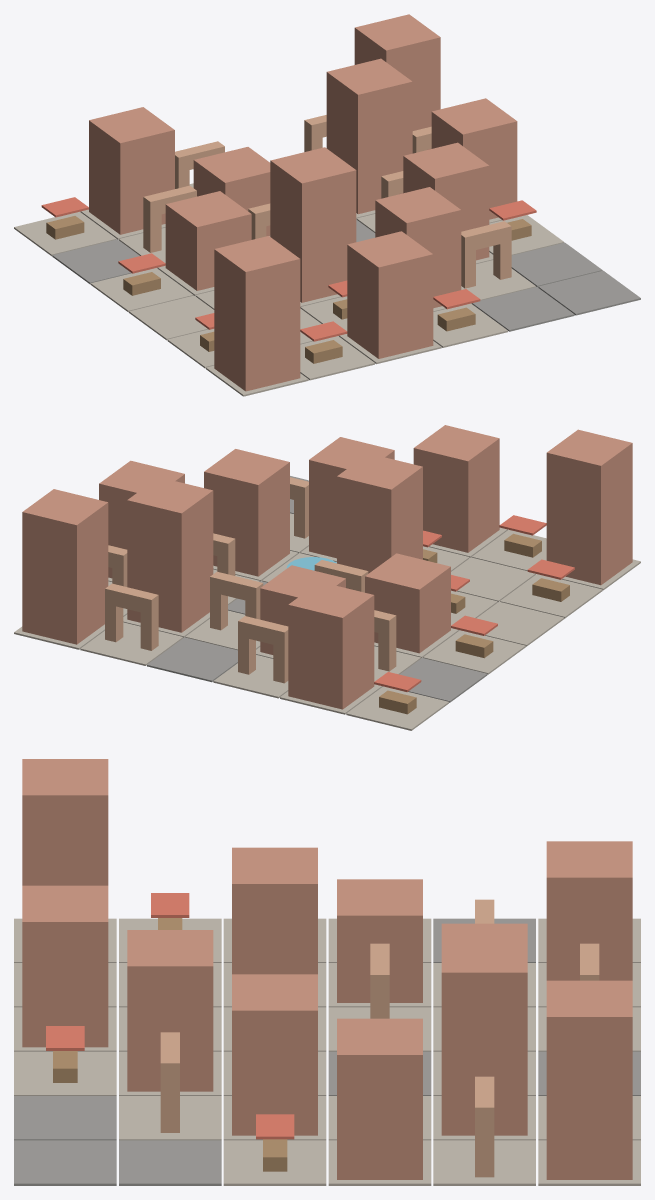
The model's file is wfc_courtyard.glb.
The picture shows the model from 3 angles, top to bottom: view 1: azimuth 30°, elevation 25°; view 2: azimuth 150°, elevation 25°; view 3: azimuth 270°, elevation 25°; orthographic projection. The views are drawn at different scales.
Parts seen in each view (by area): view 1: bldg_5_0, bldg_3_2, bldg_5_2, bldg_1_4, bldg_0_1, bldg_2_1, bldg_0_5, bldg_2_5, bldg_4_3, bldg_3_4, bldg_1_2, tile_5_5_ROAD (+29 smaller); view 2: bldg_0_5, bldg_5_0, bldg_1_4, bldg_0_1, bldg_5_2, bldg_3_2, bldg_3_4, bldg_2_1, bldg_4_3, bldg_2_5, bldg_1_2, tile_0_3_ROAD (+32 smaller); view 3: bldg_0_5, bldg_1_4, bldg_2_5, bldg_5_2, bldg_3_4, bldg_4_3, bldg_0_1, bldg_5_0, bldg_3_2, bldg_2_1, tile_4_5_ROAD, tile_5_5_ROAD (+44 smaller).
Boxes of the visible parts, bbox=[...] form: bldg_5_0: bbox=[214, 236, 300, 391]; bldg_3_2: bbox=[270, 147, 356, 302]; bldg_5_2: bbox=[347, 231, 433, 358]; bldg_1_4: bbox=[326, 58, 412, 214]; bldg_0_1: bbox=[89, 107, 174, 234]; bldg_2_1: bbox=[165, 191, 251, 290]; bldg_0_5: bbox=[354, 14, 440, 149]; bldg_2_5: bbox=[431, 98, 517, 219]; bldg_4_3: bbox=[375, 187, 461, 308]; bldg_3_4: bbox=[403, 142, 489, 260]; bldg_1_2: bbox=[193, 147, 270, 236]; tile_5_5_ROAD: bbox=[538, 270, 640, 315]; bldg_0_5: bbox=[22, 489, 108, 644]; bldg_5_0: bbox=[546, 429, 632, 585]; bldg_1_4: bbox=[127, 477, 213, 632]; bldg_0_1: bbox=[288, 582, 374, 709]; bldg_5_2: bbox=[413, 425, 499, 552]; bldg_3_2: bbox=[337, 453, 422, 588]; bldg_3_4: bbox=[204, 449, 289, 576]; bldg_2_1: bbox=[365, 553, 450, 653]; bldg_4_3: bbox=[309, 437, 394, 558]; bldg_2_5: bbox=[99, 460, 184, 578]; bldg_1_2: bbox=[260, 565, 345, 654]; tile_0_3_ROAD: bbox=[147, 637, 237, 682]; bldg_0_5: bbox=[546, 980, 632, 1179]; bldg_1_4: bbox=[441, 936, 527, 1135]; bldg_2_5: bbox=[337, 1018, 422, 1179]; bldg_5_2: bbox=[22, 885, 108, 1047]; bldg_3_4: bbox=[232, 974, 317, 1135]; bldg_4_3: bbox=[127, 930, 213, 1091]; bldg_0_1: bbox=[546, 841, 632, 980]; bldg_5_0: bbox=[22, 759, 108, 885]; bldg_3_2: bbox=[232, 847, 317, 974]; bldg_2_1: bbox=[337, 879, 422, 1002]; tile_4_5_ROAD: bbox=[119, 1140, 221, 1185]; tile_5_5_ROAD: bbox=[14, 1140, 116, 1185].
Bounding box in the file's own units: 35.88 × 10.44 × 35.88.
